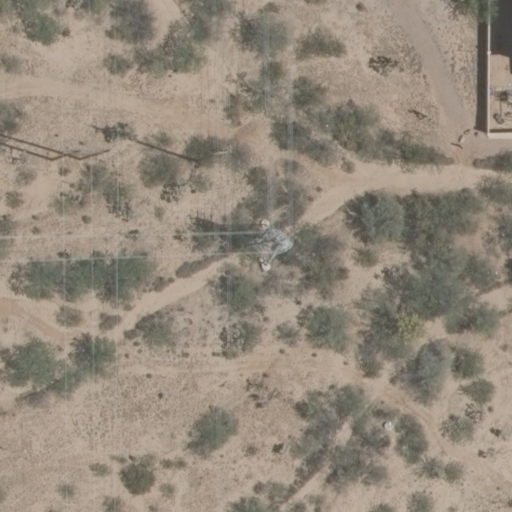DT: (46, 138, 118, 173), (187, 138, 234, 172)
TT: (231, 205, 300, 276)
